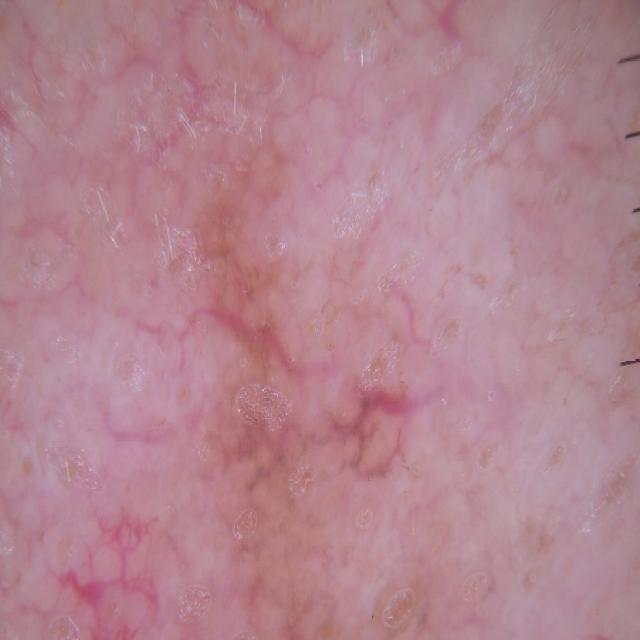Melanoma: (141, 250, 345, 640), (221, 45, 400, 205), (0, 424, 107, 640)
